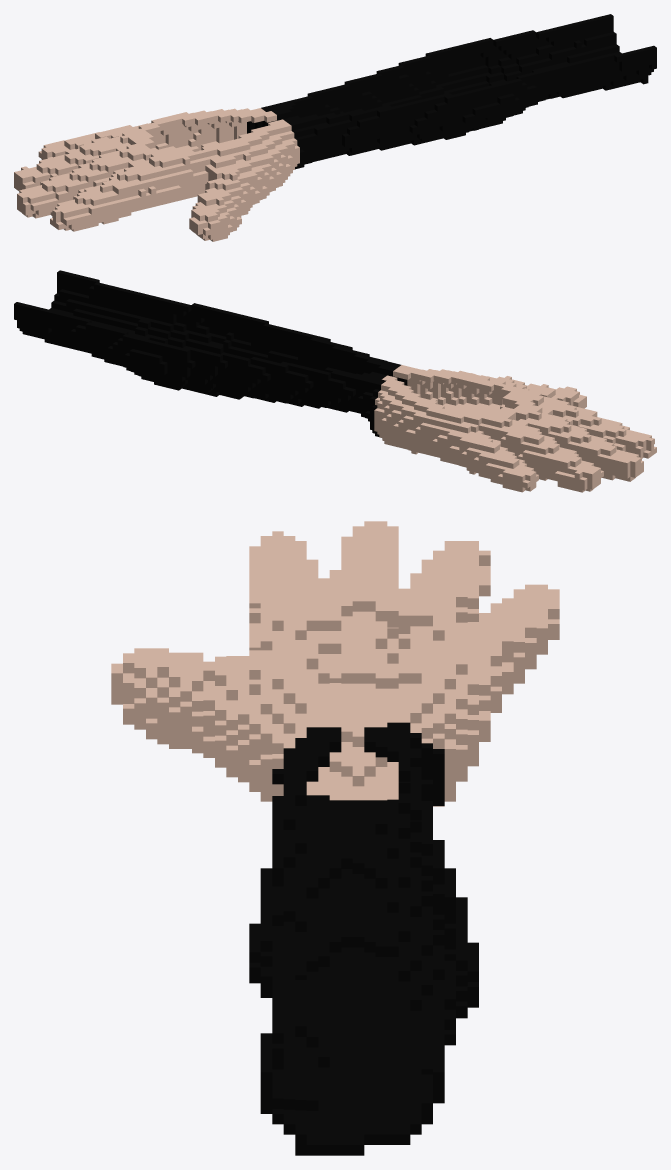
The model's file is kun-3.obj.
The picture shows the model from 3 angles, top to bottom: view 1: azimuth 30°, elevation 25°; view 2: azimuth 150°, elevation 25°; view 3: azimuth 270°, elevation 25°; orthographic projection. The views are drawn at different scales.
Bounding box in the file's own units: 12.2 × 1 × 3.9.
Materials: 1 (1 with a texture image).
